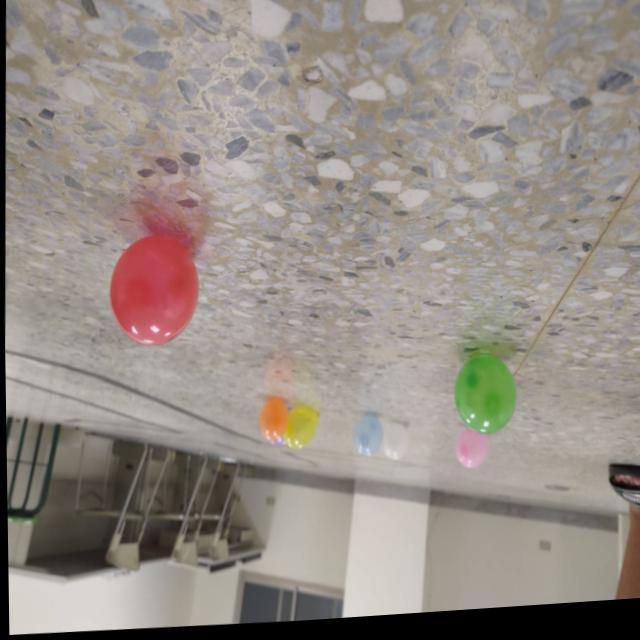other: (451, 360, 516, 444), (284, 410, 320, 455), (454, 435, 487, 476), (350, 419, 380, 463), (256, 402, 285, 446), (381, 429, 408, 466)
red: (108, 232, 200, 352)
